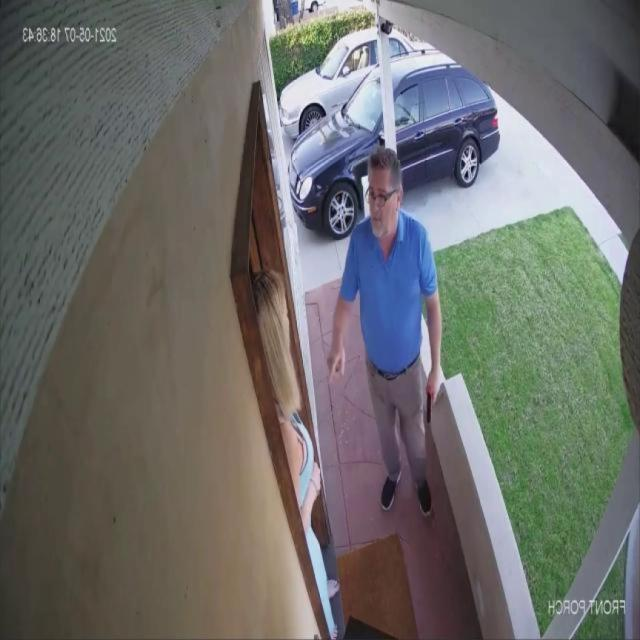pistol: (424, 386, 438, 424)
